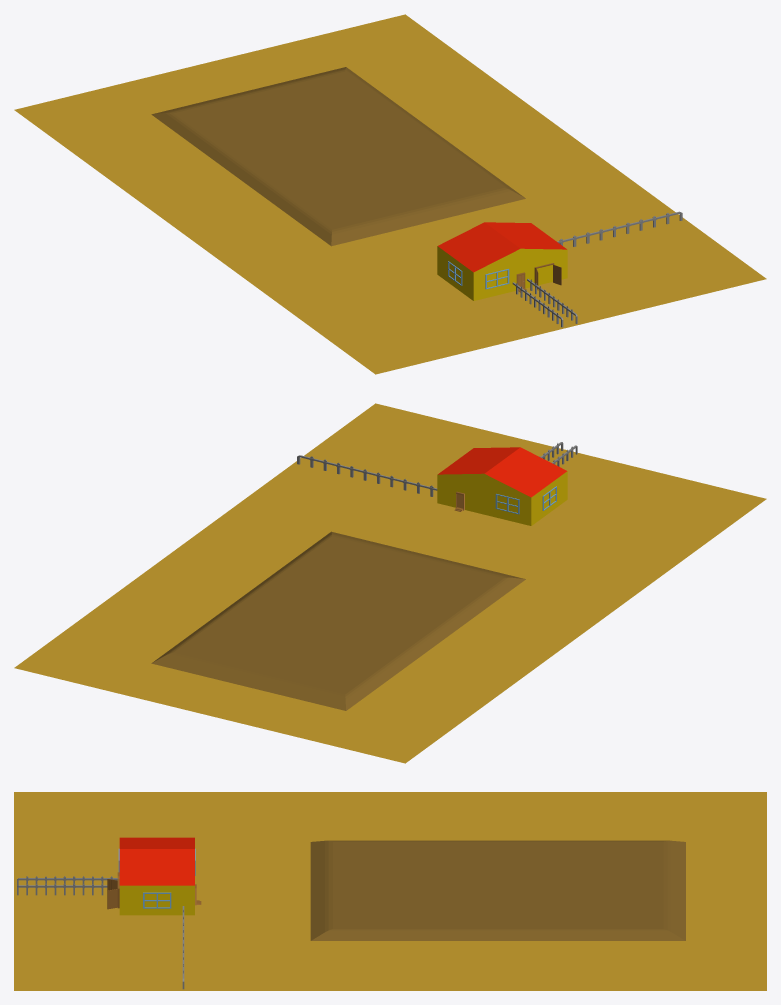
The model's file is terrenoJuegoGranja.fbx.
3 views of the same model, one above another, from view 1: azimuth 30°, elevation 25°; view 2: azimuth 150°, elevation 25°; view 3: azimuth 270°, elevation 25° (orthographic). The views are drawn at different scales.
Parts seen in each view (by area): view 1: terrain, casa, fence3; view 2: terrain, casa, fence3; view 3: terrain, casa, fence2, fence1, gardenDoor.
Boxes of the visible parts, left/top/right/bottom form: terrain: left=14, top=14, right=766, bottom=374; casa: left=437, top=222, right=567, bottom=300; fence3: left=557, top=211, right=682, bottom=246; terrain: left=14, top=403, right=766, bottom=763; casa: left=437, top=447, right=567, bottom=525; fence3: left=297, top=455, right=437, bottom=496; terrain: left=14, top=792, right=766, bottom=990; casa: left=119, top=837, right=194, bottom=915; fence2: left=17, top=883, right=107, bottom=895; fence1: left=17, top=876, right=117, bottom=886; gardenDoor: left=107, top=879, right=119, bottom=909.
Size of the model in its own units: 5000 by 500 by 8000.
